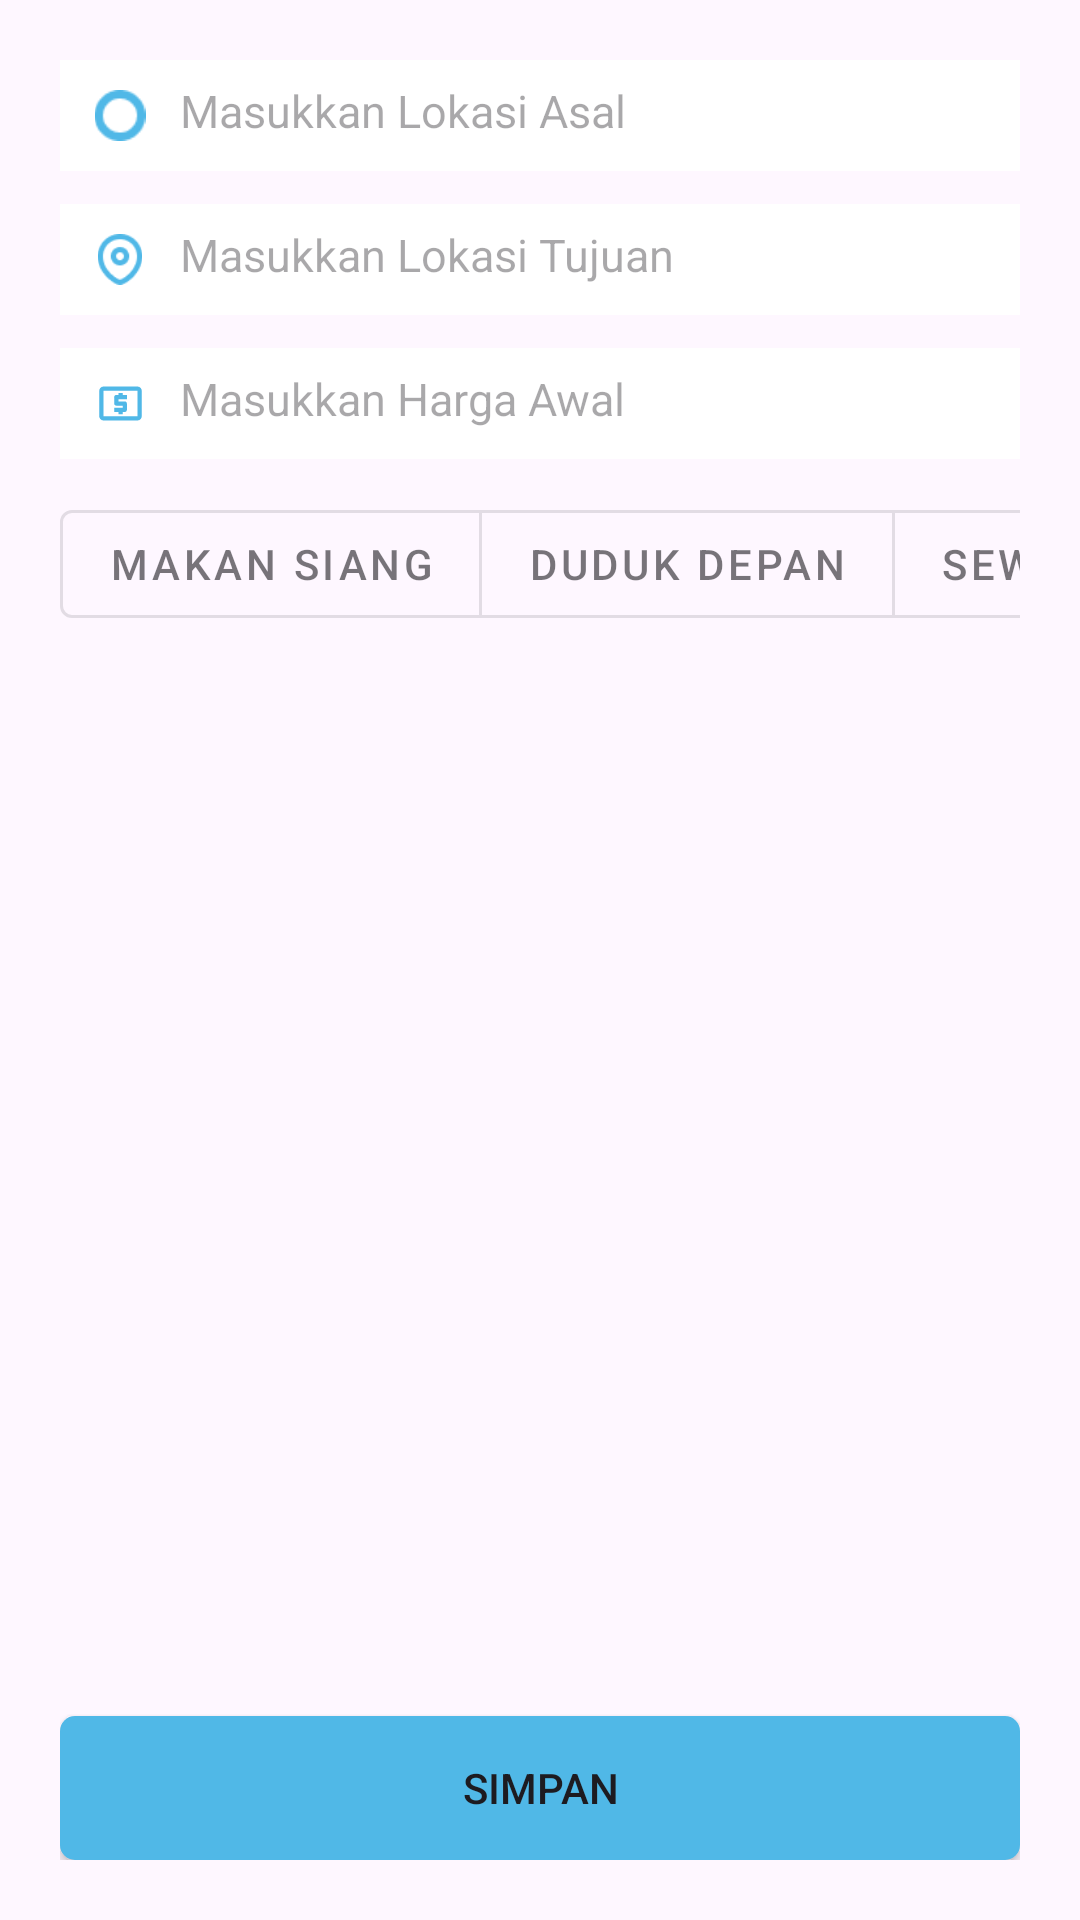

Icon bounding boxes for this 1080×1920 phone screenshot, format (x1, y1, x2, y2):
local atm: (99, 386, 142, 421)
pin end: (98, 234, 142, 285)
pin start: (95, 90, 146, 141)
